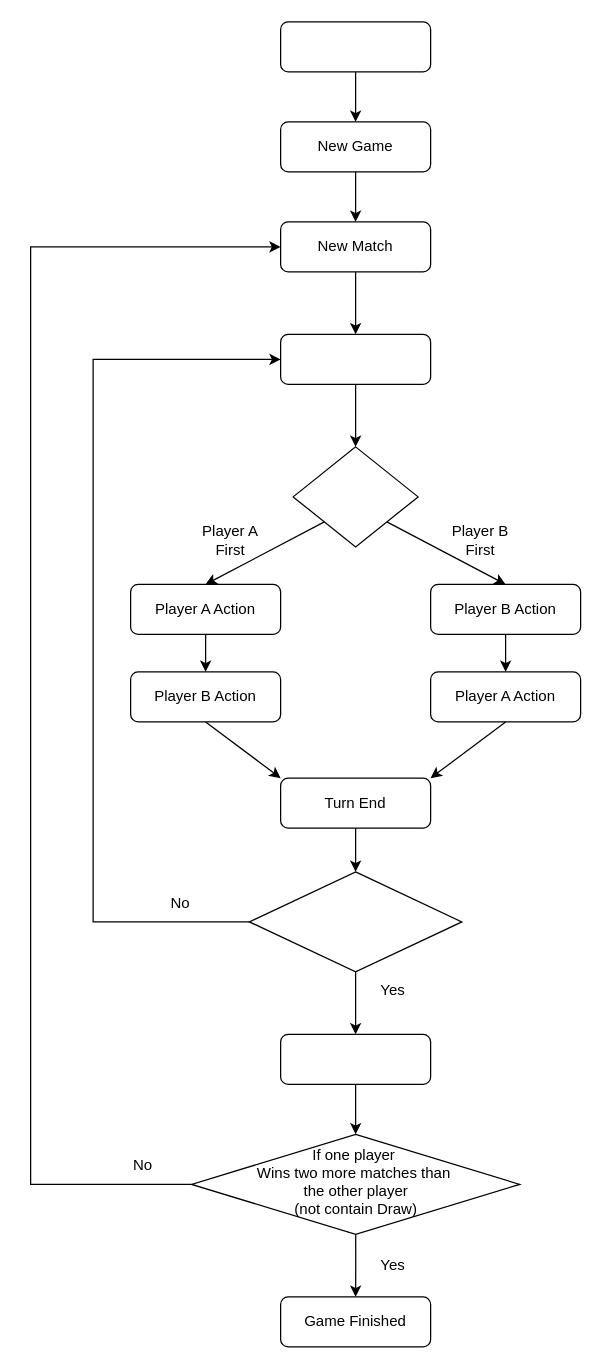
Some shapes in this 603 by 1369 pixel diagram are drawn without their labels. The centre of each missing label's shape, as x and y in pixels:
if one player hp < 0 or 10 truns: point (355, 921)
Match End: point (355, 1058)
New Turn: point (355, 358)
Welcome: point (355, 46)
Who Action First: point (355, 496)
